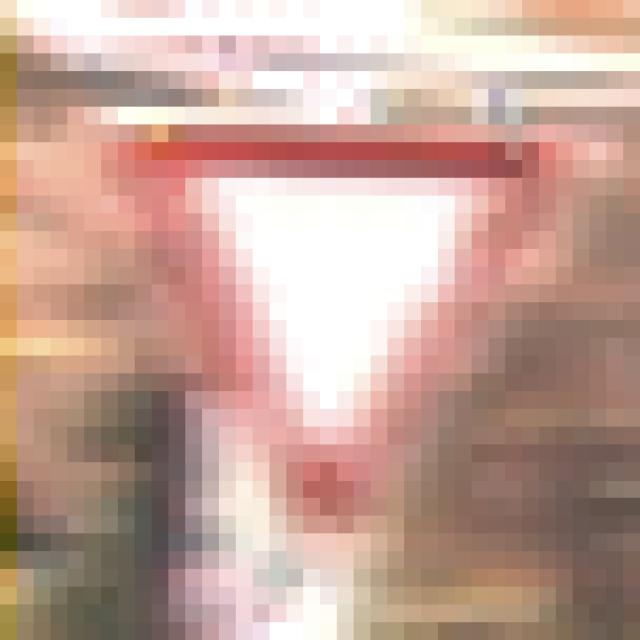Give Way: (102, 90, 557, 552)
